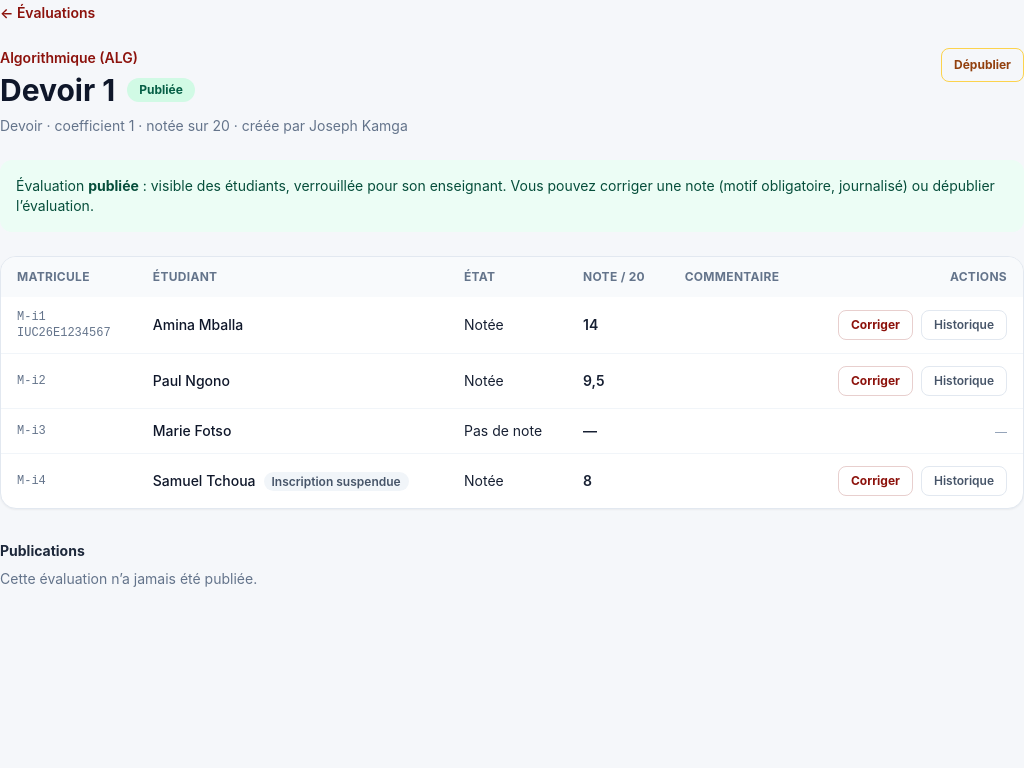
Test: grille de notes du personnel › affiche l’historique : ancienne → nouvelle valeur, motif, auteur
Click the button with aria-label "Historique de la note de Amina Mballa". click: (964, 325)
box: left=921, top=310, right=1007, bottom=340
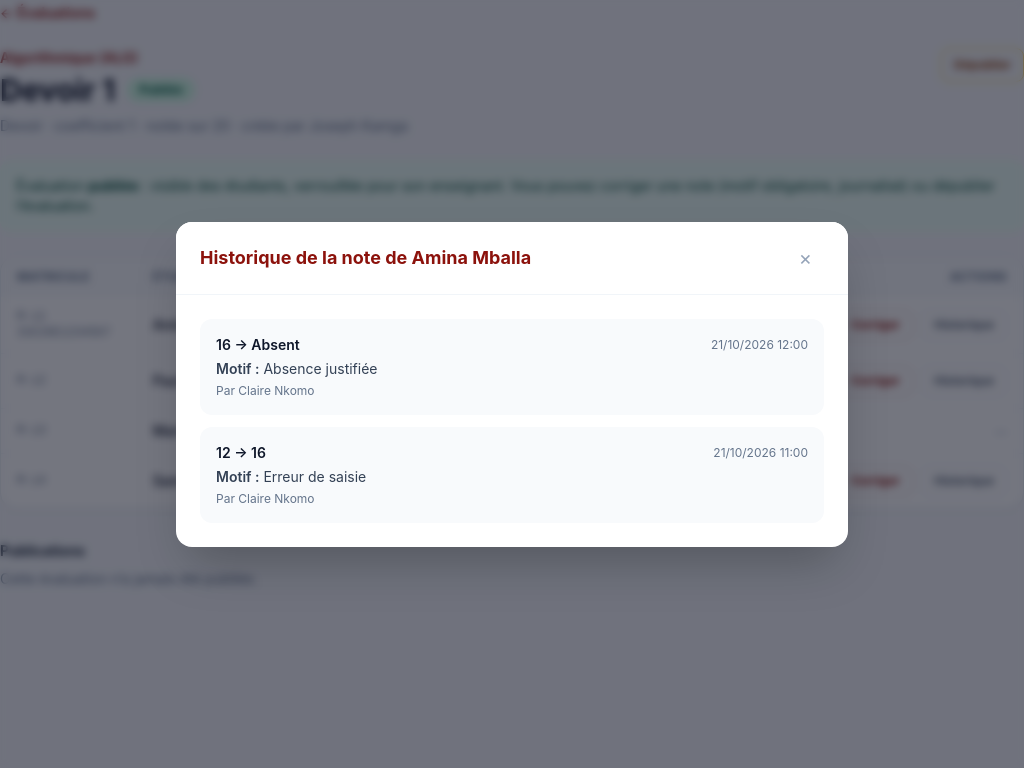
Expected: the text "16 → Absent" is shown, left=216, top=334, right=300, bottom=354
Expected: the text "12 → 16" is shown, left=216, top=442, right=266, bottom=462
Expected: the text "Motif : Absence justifiée" is shown, left=216, top=360, right=378, bottom=376
